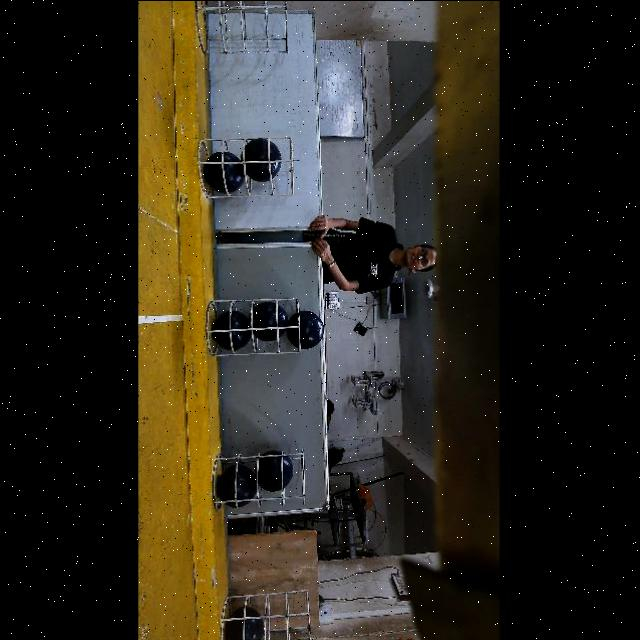P: (240, 137, 280, 181), (203, 151, 244, 193), (217, 463, 256, 507), (254, 449, 293, 491), (248, 301, 288, 340), (286, 309, 324, 349), (212, 310, 250, 349), (225, 607, 262, 640)
S: (202, 300, 300, 360), (209, 448, 305, 507), (196, 0, 290, 60), (198, 137, 296, 190), (222, 588, 310, 640)
